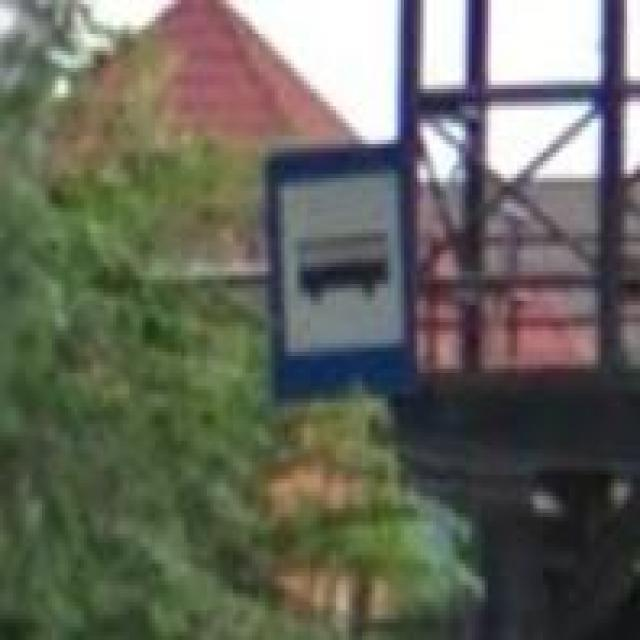traffic sign: (265, 140, 420, 398)
